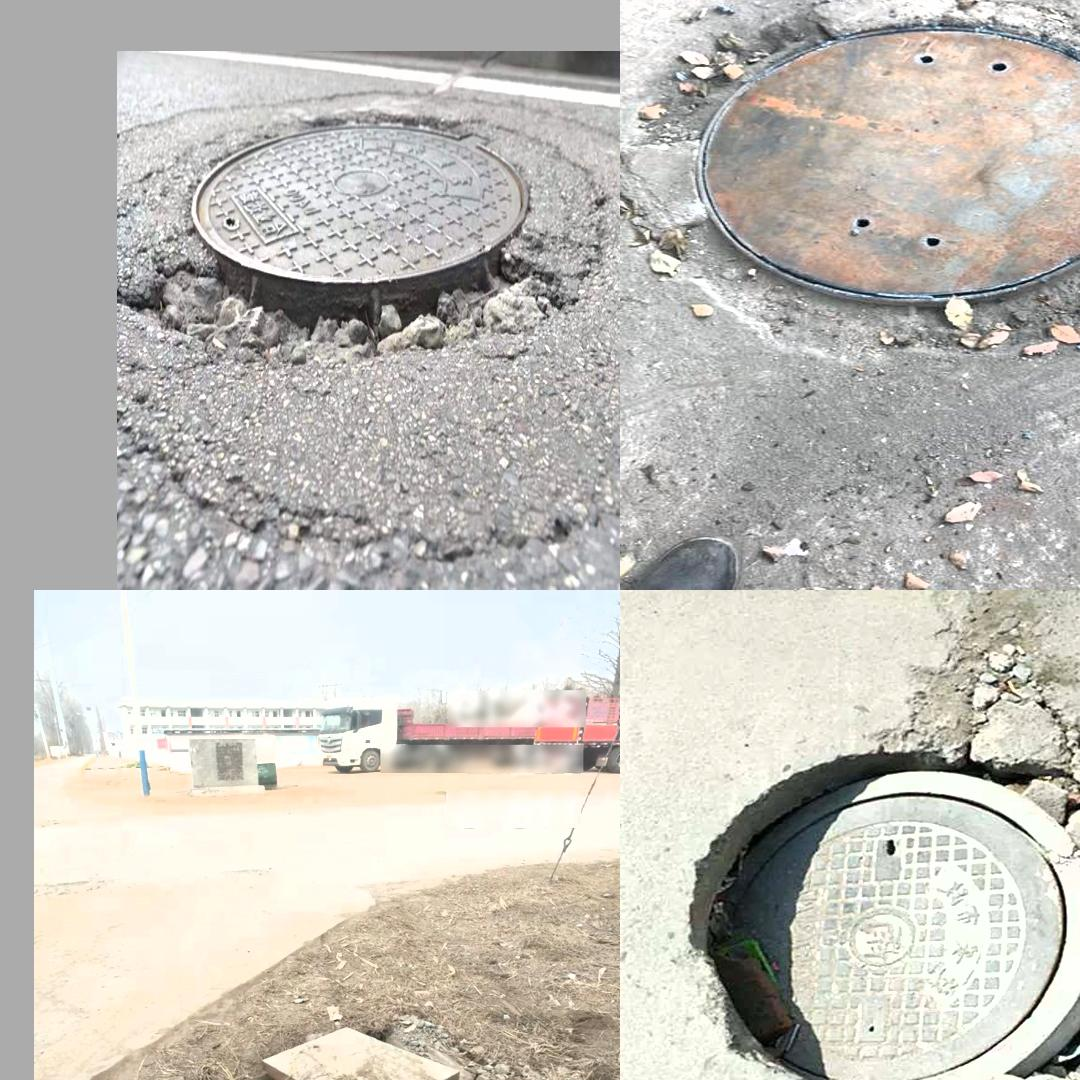circle: (690, 634, 1080, 1080), (641, 0, 1080, 379), (124, 91, 605, 419), (217, 1010, 491, 1080)
